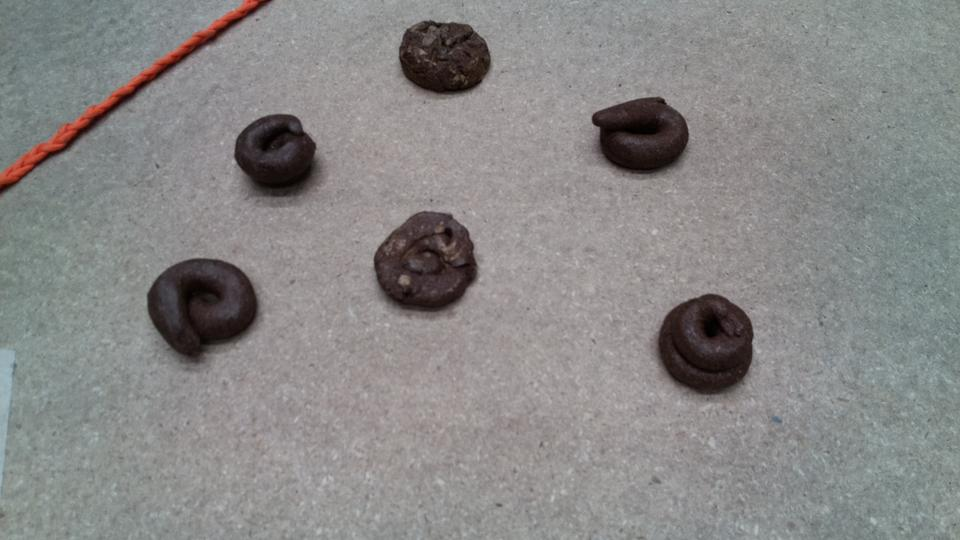poop: (134, 251, 272, 361), (356, 204, 490, 310), (650, 286, 761, 399), (588, 85, 690, 179), (399, 17, 496, 97), (233, 115, 327, 195)
rope: (55, 48, 179, 150), (155, 1, 278, 72), (1, 120, 80, 205)
